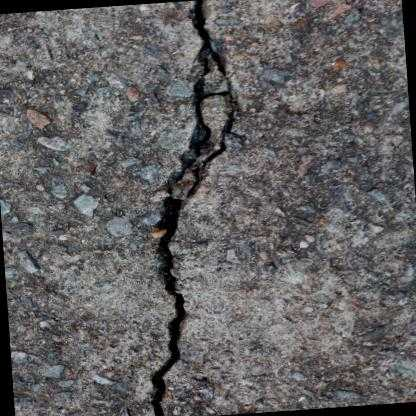crack: (152, 0, 237, 416)
